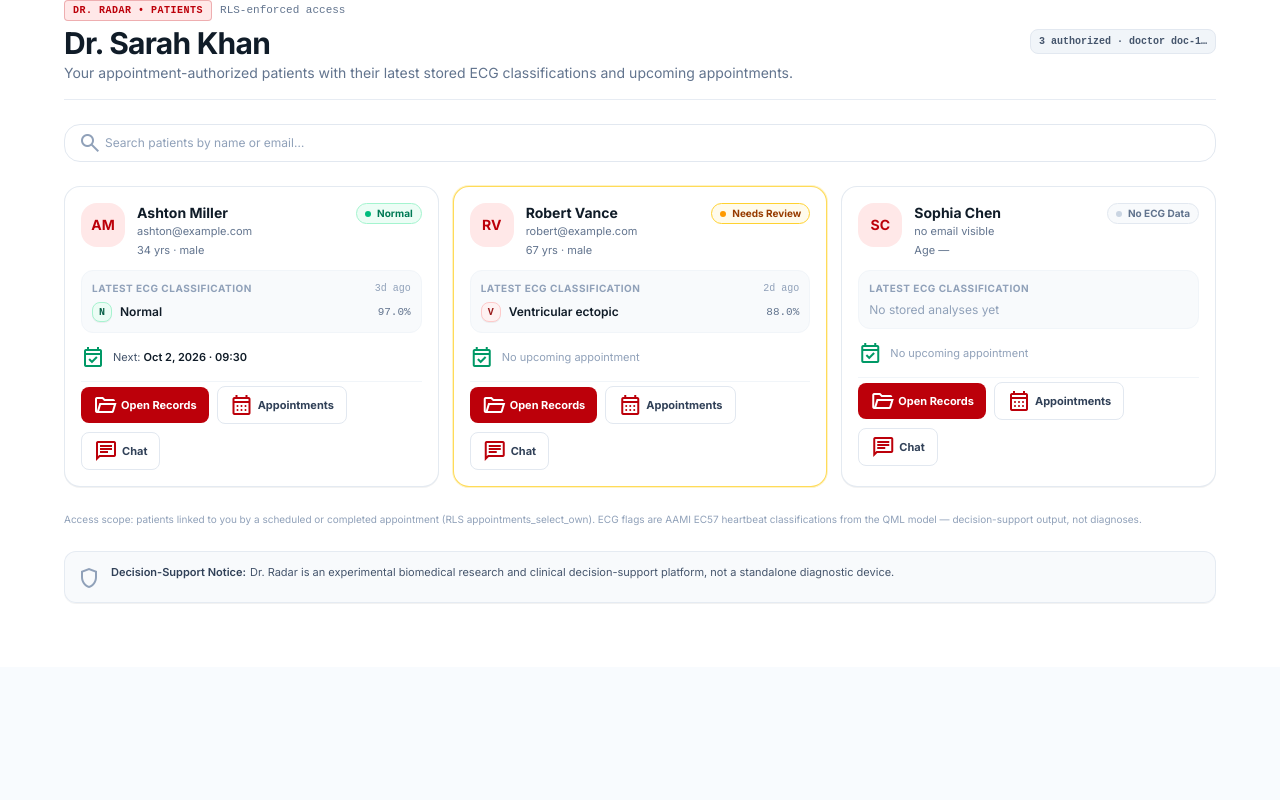
DoctorPatientsScreen › searches patients by name (case-insensitive) and clears
Expected: the number of elements with test id "patient-card" is 3, [64,186,439,487]; [453,186,827,487]; [841,186,1216,487]
Type "robert" into the field with placeholder "Search patients by name or email…".
click(640, 143); type("robert")  # box [64,124,1216,162]
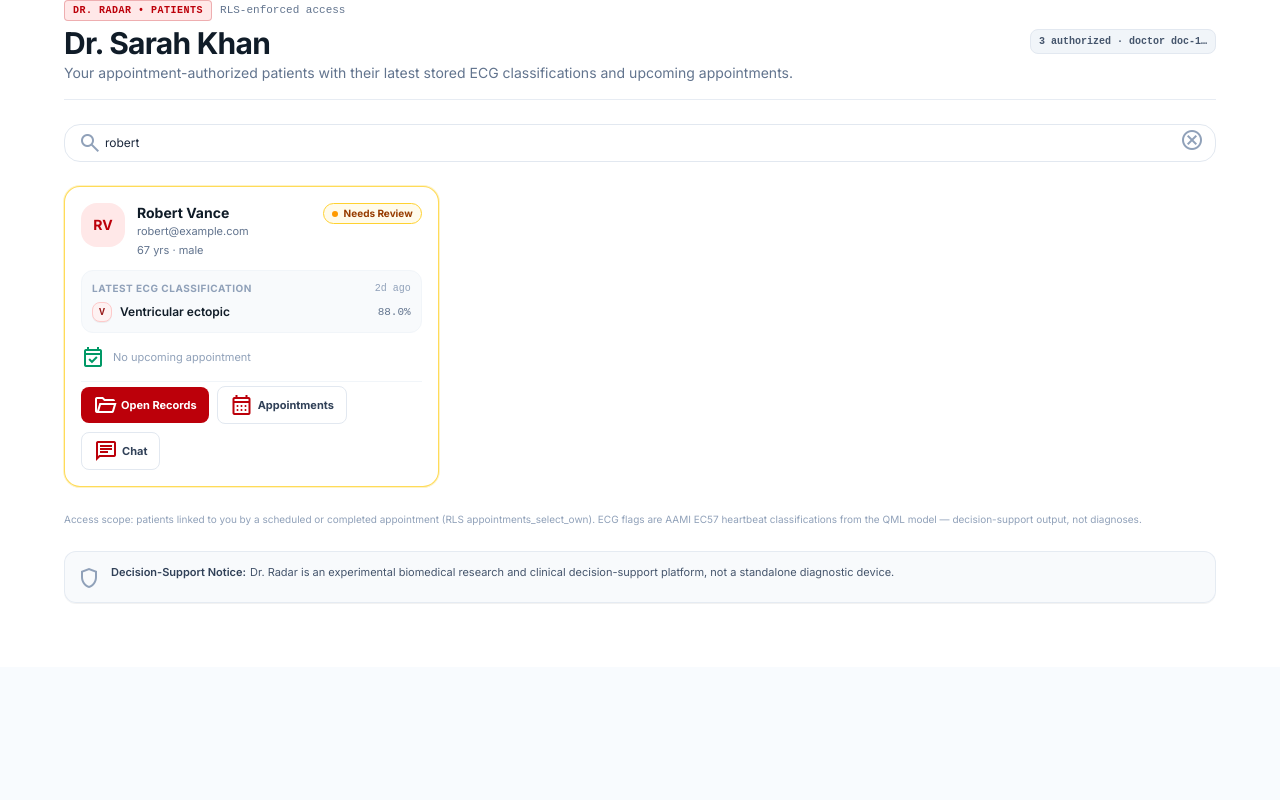
Expected: the text "Robert Vance" is shown, [137,204,229,221]
Result: the number of elements with test id "patient-card" is 1 at [64,186,439,487]
Result: the text "Ashton Miller" is gone
Clear the field with placeholder "Search patients by name or email…" at (640, 143), box [64,124,1216,162]
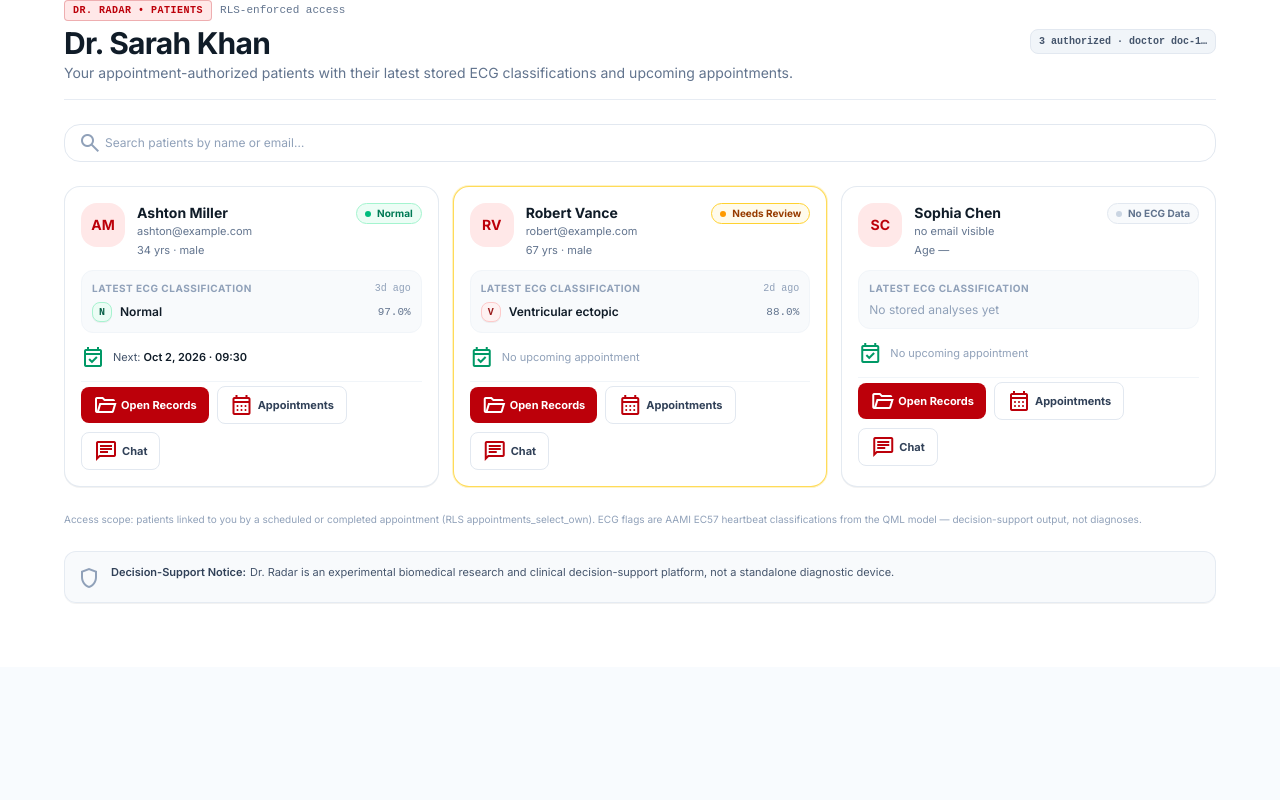
Result: the number of elements with test id "patient-card" is 3 at [64,186,439,487]; [453,186,827,487]; [841,186,1216,487]
